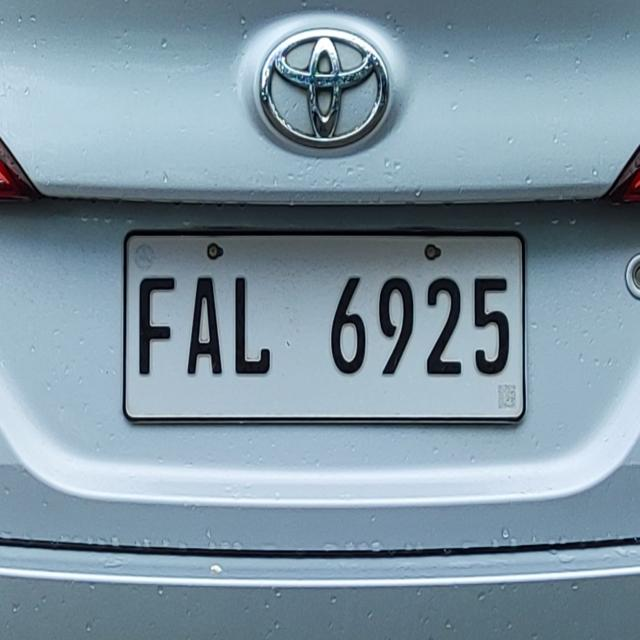plate: (117, 220, 533, 436)
